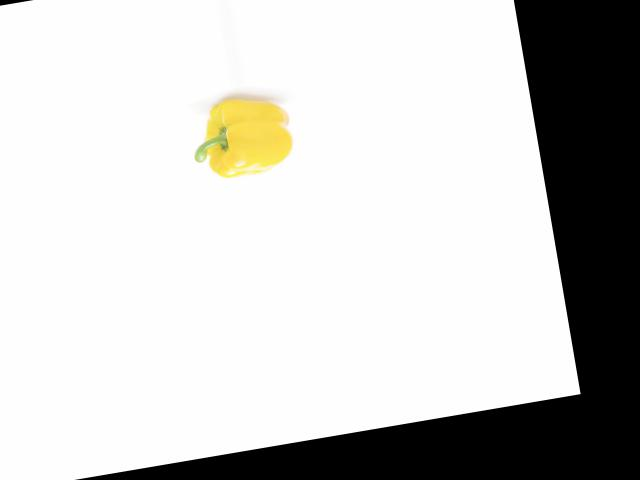bell_pepper: (177, 89, 301, 189)
